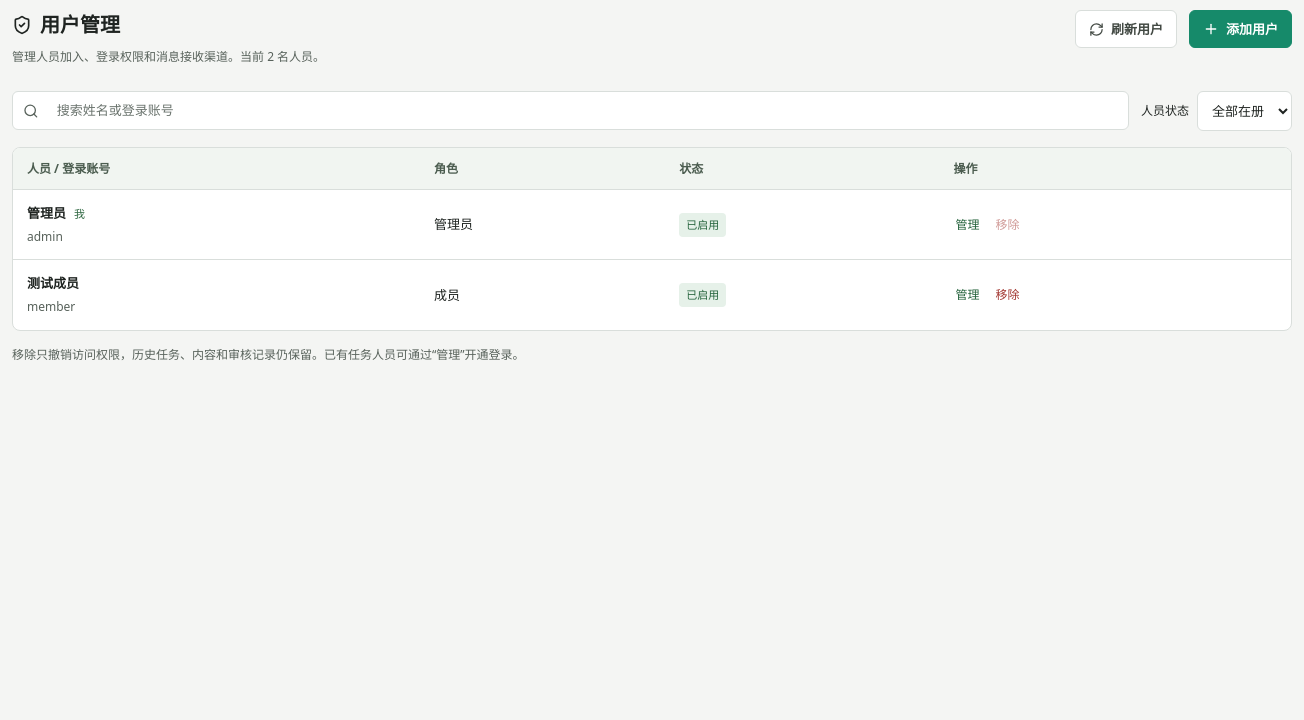
用户管理 › 绑定失败时在渠道区域聚焦错误并保留接收 ID
expect the text "测试成员" is shown: met, box [27, 274, 79, 292]
Step 1. Click the button with aria-label "管理 测试成员" → {"x": 968, "y": 295}, box [954, 279, 982, 311]
(page scrolled)
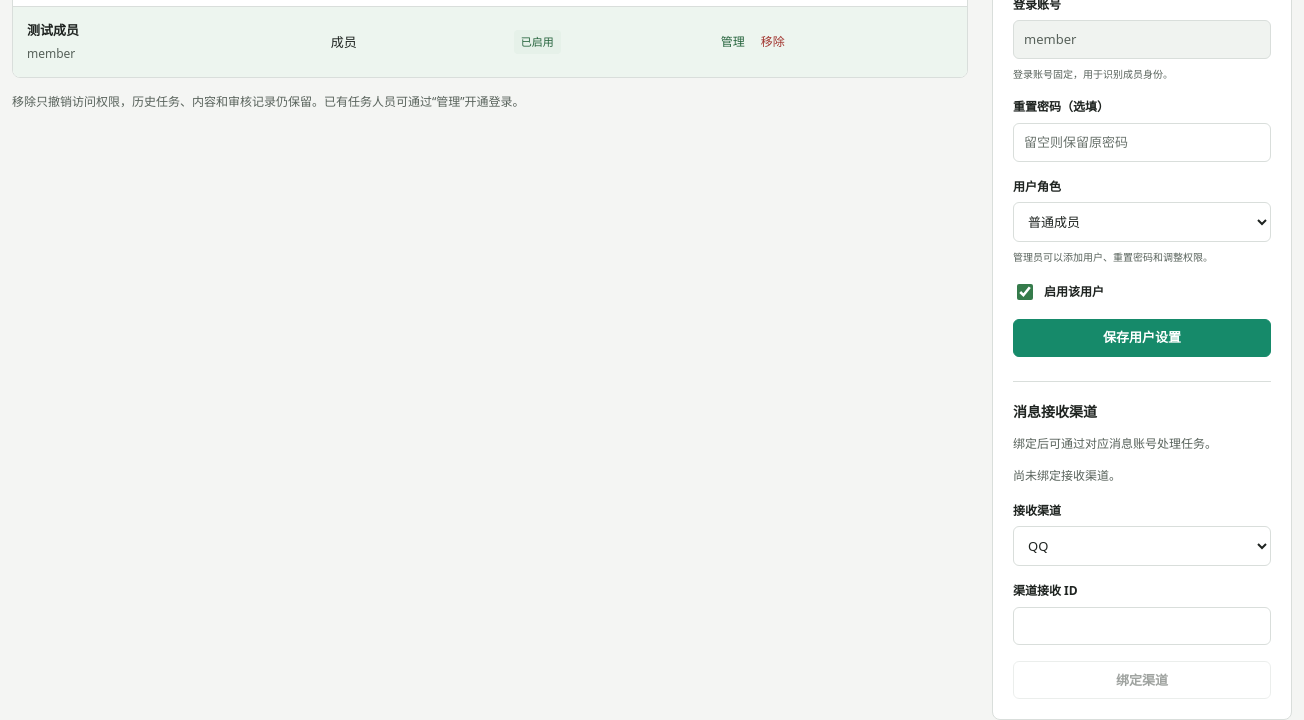
Step 2. Type "duplicate-recipient" into the field labelled "渠道接收 ID" → {"x": 1142, "y": 626}, box [1013, 607, 1271, 645]
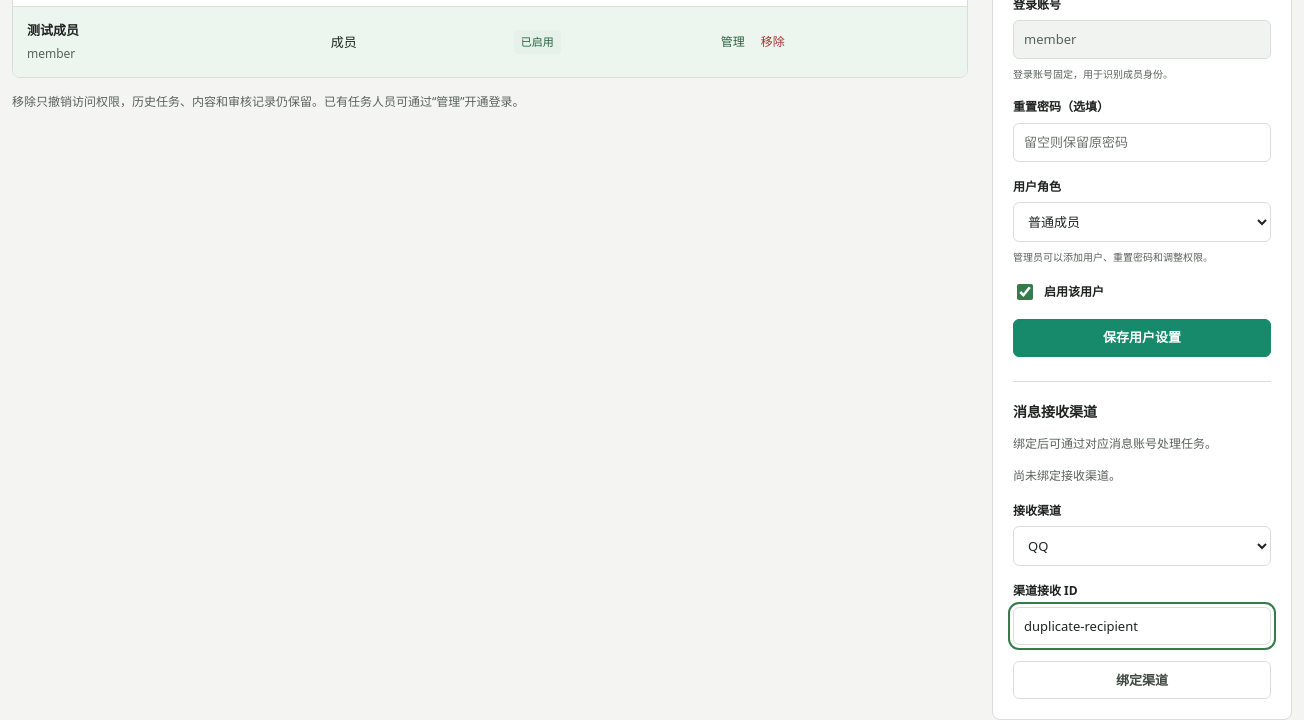
Step 3. Click the button "绑定渠道" → {"x": 1142, "y": 680}, box [1013, 661, 1271, 699]
(page scrolled)
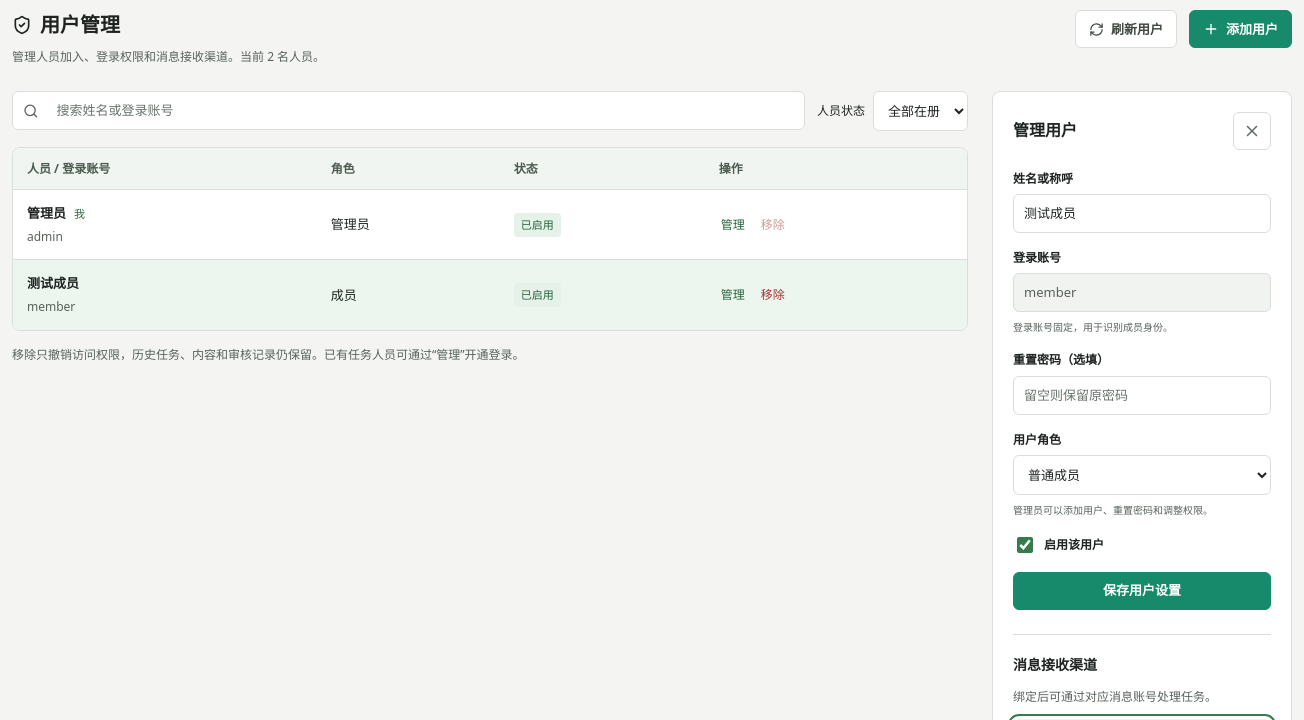
expect the field labelled "姓名或称呼" holds "测试成员": met, box [1013, 194, 1271, 233]
